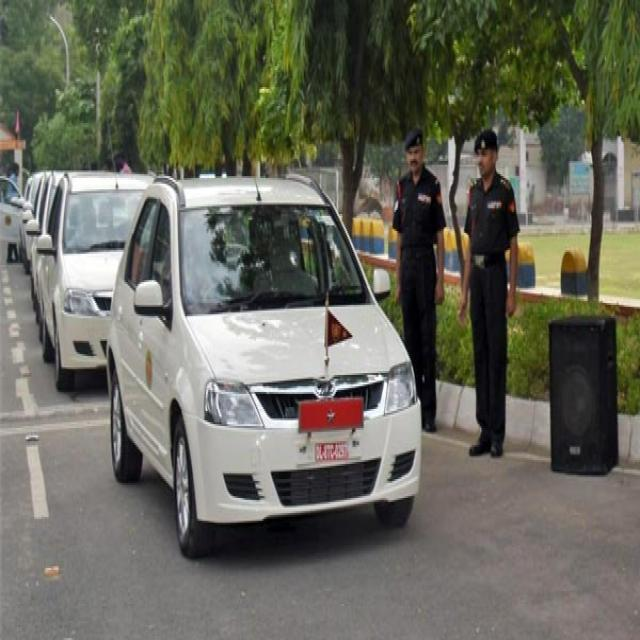plate: (314, 440, 352, 465)
